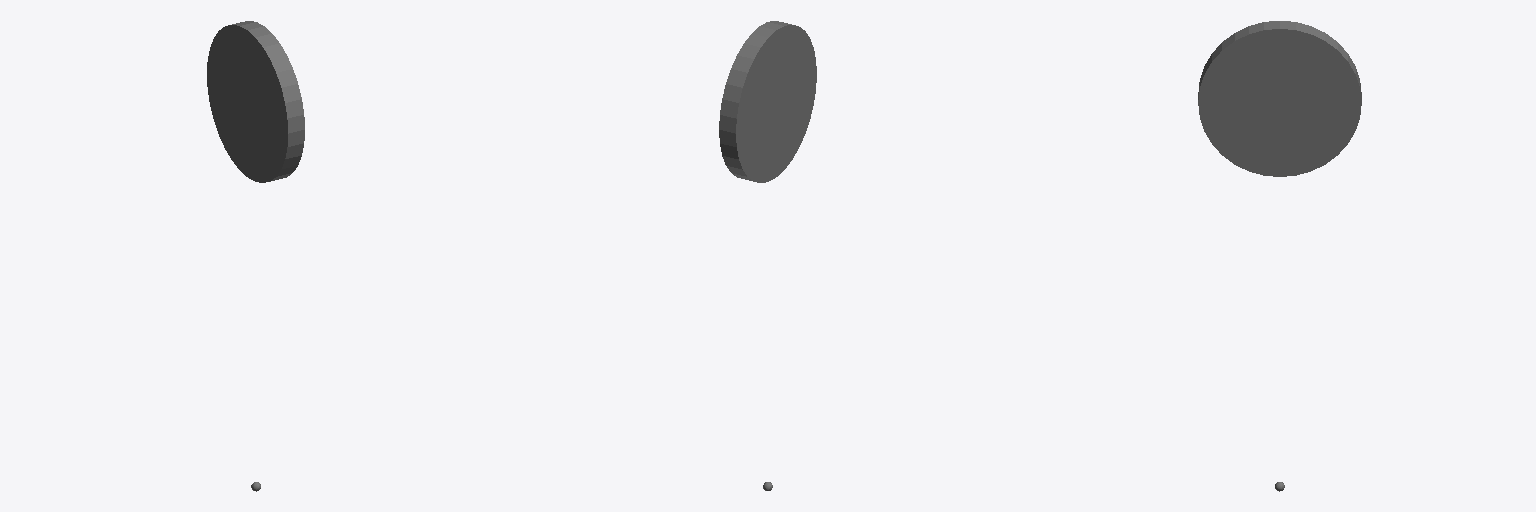
robot.urdf — threedof_manipulator:
<?xml version="1.0" ?>

<robot name="threedof_manipulator">

  <link name="root_link">
    <inertial>
      <mass value="0.0001"/>
      <inertia ixx="1e-6" ixy="0" ixz="0"
               iyy="1e-6" iyz="0"
               izz="1e-6"/>
    </inertial>
    <!-- no <visual>, no <collision> -->
  </link>

  <joint name="root_upper_arm_fixed_joint" type="fixed">
    <origin rpy="1.57 1.57 0" xyz="-0.0225 0.007 -0.10244"/>
    <parent link="root_link"/>
    <child link="upper_arm_link"/>
  </joint>

  <link name="upper_arm_link">
    <visual>
      <geometry>
        <mesh filename="/home/robot/studentische-arbeiten/res/Tensegrity/meshes/Oberarm.stl" scale="0.001 0.001 0.001"/>
      </geometry>
      <material name="grey">
        <color rgba="0.5 0.5 0.5 0.9"/>
      </material>
    </visual>
    <collision>
      <geometry>
        <mesh filename="/home/robot/studentische-arbeiten/res/Tensegrity/meshes/Oberarm.stl" scale="0.001 0.001 0.001"/>
      </geometry>
    </collision>
    <inertial>
      <mass value="2"/>
      <origin rpy="0 0 0" xyz="0 0 0"/>
      <inertia ixx="0.001333" ixy="0.0" ixz="0.0" iyy="0.1333" iyz="0.0" izz="0.001333"/>
    </inertial>
  </link>

  <joint name="elbow_joint" type="revolute">
    <parent link="upper_arm_link"/>
    <child link="cylinder_approx_link"/>
    <axis xyz="0 0 1"/>
    <origin rpy="1.57 0 0" xyz="0.352 0.0226 0"/> <!--0.352 0.0226 0.007-->
    <limit effort="0.125" lower="-1.5" upper="1.5" velocity="1.0"/>
    <!--1.45-->
    <dynamics damping="0.0036" friction="0.002"/>
    <!-- damping="0.0036" friction="0.002"-->
  </joint>

  <link name="cylinder_approx_link">
    <visual>
      <geometry>
        <cylinder length="0.02" radius="0.083"/>
      </geometry>
      <material name="grey">
        <color rgba="0.5 0.5 0.5 1"/>
      </material>
    </visual>
    <collision>
      <geometry>
        <cylinder length="0.02" radius="0.083"/>
      </geometry>
    </collision>
    <inertial>
      <mass value="0.192"/>
      <inertia ixx="0.0001" ixy="0.0" ixz="0.0" iyy="0.0001536" iyz="0.0" izz="0.0001536"/>
    </inertial>
  </link>

  <joint name="cylinder_forearm_fixed_joint" type="fixed">
    <origin rpy="1.57 3.14 -1.57" xyz="0.193 0 0"/>
    <parent link="cylinder_approx_link"/>
    <child link="forearm_link"/>
  </joint>

  <link name="forearm_link">
    <visual>
      <geometry>
        <mesh filename="/home/robot/studentische-arbeiten/res/Tensegrity/meshes/Unterarm_Simulation.stl" scale="0.001 0.001 0.001"/>
      </geometry>
      <material name="grey">
        <color rgba="0.5 0.5 0.5 0.9"/>
      </material>
    </visual>
    <collision>
      <geometry>
        <mesh filename="/home/robot/studentische-arbeiten/res/Tensegrity/meshes/Unterarm_Simulation.stl" scale="0.001 0.001 0.001"/>
      </geometry>
    </collision>
    <inertial>
      <mass value="1.9"/>
      <origin rpy="0 0 0" xyz="0 0 0"/>
      <inertia ixx="0.07286" ixy="0.0" ixz="0.0" iyy="0.01099" iyz="0.0" izz="0.0104"/>
    </inertial>
  </link>

  <fixed_frame name="imu1_frame">
    <parent link="forearm_link"/>
    <origin rpy="0 0 3.14" xyz="0 0.03 -0.148"/>
  </fixed_frame>

   <joint name="wrist_y_joint" type="revolute">
    <parent link="forearm_link"/>
    <child link="wrist_y_link"/>
    <axis xyz="1 0 0"/>
    <origin rpy="0 0 3.14" xyz="0 0 -0.241"/>
    <limit effort="10.0" lower="-0.8" upper="0.8" velocity="0.5"/>
    <dynamics damping="0.01" friction="0.04"/>
    <!-- damping="0.0036" friction="0.002"-->
  </joint> 

  <link name="wrist_y_link">
    <visual>
      <geometry>
        <sphere radius="0.005"/>
      </geometry>
      <material name="grey">
        <color rgba="0.5 0.5 0.5 1"/>
      </material>
    </visual>
    <collision>
      <geometry>
        <sphere radius="0.005"/>
      </geometry>
    </collision>
    <inertial>
      <mass value="0.0001"/>
      <inertia ixx="1e-6" ixy="0" ixz="0"
               iyy="1e-6" iyz="0"
               izz="1e-6"/>
    </inertial>
  </link>

  <joint name="wrist_x_joint" type="revolute">
    <parent link="wrist_y_link"/>
    <child link="wrist_x_link"/>
    <axis xyz="0 1 0"/>
    <origin rpy="0 0 0" xyz="0 0 0"/>
    <limit effort="10.0" lower="-0.8" upper="0.8" velocity="0.5"/>
    <dynamics damping="0.01" friction="0.04"/>
    <!-- damping="0.0036" friction="0.002"-->
  </joint>  

  <link name="wrist_x_link">
    <visual>
      <geometry>
        <sphere radius="0.005"/>
      </geometry>
      <material name="grey">
        <color rgba="0.5 0.5 0.5 1"/>
      </material>
    </visual>
    <collision>
      <geometry>
        <sphere radius="0.005"/>
      </geometry>
    </collision>
    <inertial>
      <mass value="0.0001"/>
      <inertia ixx="1e-6" ixy="0" ixz="0"
               iyy="1e-6" iyz="0"
               izz="1e-6"/>
    </inertial>
  </link>

  <joint name="wrist_mesh_fixed_joint" type="fixed">
    <origin rpy="3.14 0 2.616" xyz="0 0 -0.0033"/>
    <parent link="wrist_x_link"/>
    <child link="end_effector_link"/>
  </joint>  

  <link name="end_effector_link">
    <visual>
      <geometry>
        <mesh filename="/home/robot/studentische-arbeiten/res/Tensegrity/meshes/Endeffektor.stl" scale="0.001 0.001 0.001"/>
      </geometry>
      <material name="grey">
        <color rgba="0.5 0.5 0.5 1"/>
      </material>
    </visual>
    <collision>
      <geometry>
        <mesh filename="/home/robot/studentische-arbeiten/res/Tensegrity/meshes/Endeffektor.stl" scale="0.001 0.001 0.001"/>
      </geometry>
    </collision>
    <inertial>
      <mass value="0.4"/>
      <origin rpy="0 0 0" xyz="0 0 0"/>
      <inertia ixx="0.000175" ixy="0.0" ixz="0.0" 
               iyy="0.000175" iyz="0.0" 
               izz="0.0000614"/>
    </inertial>
  </link>

  <fixed_frame name="imu2_frame">
    <parent link="end_effector_link"/>
    <origin rpy="3.14 0 2.6172" xyz="0 0 0.09"/>
  </fixed_frame>

  <joint name="ee_tool_fixed_joint" type="fixed">
    <origin rpy="0 0 0" xyz="0 0 0.11768"/>
    <parent link="end_effector_link"/>
    <child link="tool_link"/>
  </joint>  

  <link name="tool_link">
    <inertial>
      <mass value="0.0001"/>
      <inertia ixx="1e-6" ixy="0" ixz="0"
               iyy="1e-6" iyz="0"
               izz="1e-6"/>
    </inertial>
    <!-- no <visual>, no <collision> -->
  </link>

</robot>

--- What the picture shows (computed from the rendered views, not written in the file) ---
3 views of the same robot in one strip: view 1: azimuth 30°, elevation 25°; view 2: azimuth 150°, elevation 25°; view 3: azimuth 270°, elevation 25° (orthographic).
Robot: threedof_manipulator — 8 links, 7 joints (3 revolute, 4 fixed); root link root_link; default pose: every joint at zero.
Visible links, largest first — view 1: cylinder_approx_link; view 2: cylinder_approx_link; view 3: cylinder_approx_link.
Link boxes in pixels (x1,y1,x2,y2): cylinder_approx_link: (207,21,304,182); cylinder_approx_link: (719,21,816,182); cylinder_approx_link: (1198,21,1361,176).
Bounding box of the posed robot: 0.0203 × 0.166 × 0.522 m (x, y, z).
Geometry: only primitive shapes (box / cylinder / sphere) drawn; not drawn: 3 mesh visuals (reference in a form the renderer does not follow).
